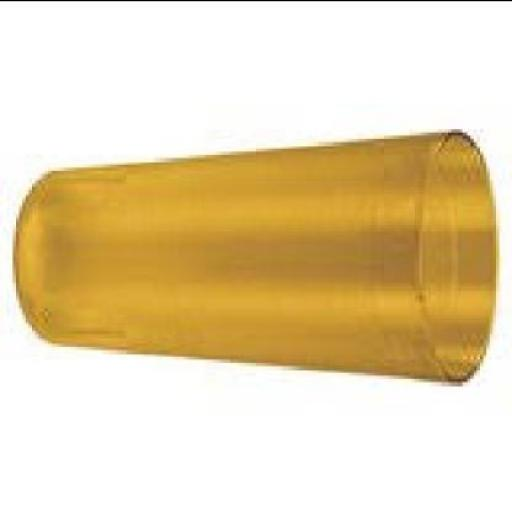glass: (22, 127, 502, 381)
